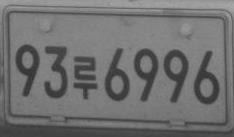3: (43, 45, 68, 99)
6: (193, 49, 220, 104), (104, 47, 130, 101)
9: (162, 48, 189, 102), (14, 43, 40, 97), (133, 47, 159, 101)
루: (73, 55, 98, 100)
